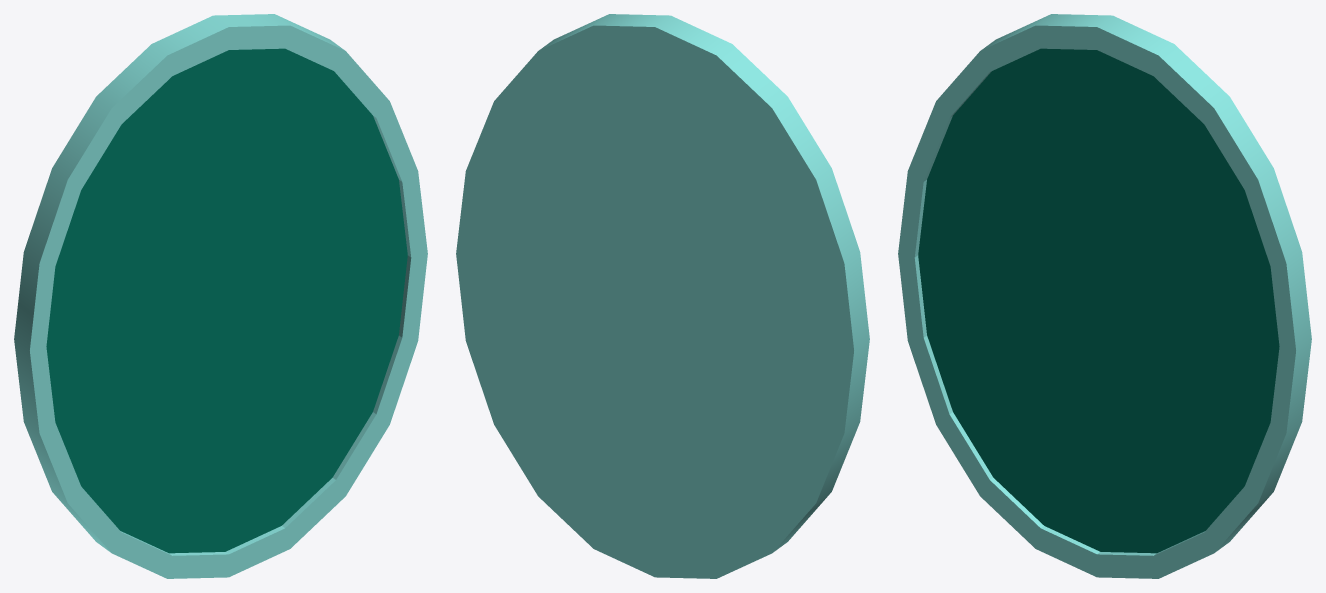
File: SM_Panneau_Neon_Ovale.fbx
The picture shows the model from 3 angles, left to right: view 1: azimuth 30°, elevation 25°; view 2: azimuth 150°, elevation 25°; view 3: azimuth 330°, elevation 25°; orthographic projection.
Visible parts, largest first — view 1: SM_Panneau_Neon_Ovale; view 2: SM_Panneau_Neon_Ovale; view 3: SM_Panneau_Neon_Ovale.
Part boxes in pixels (x1,y1,x2,y2): SM_Panneau_Neon_Ovale: [14, 14, 427, 578]; SM_Panneau_Neon_Ovale: [456, 14, 869, 578]; SM_Panneau_Neon_Ovale: [898, 14, 1311, 578].
Bounding box in the file's own units: 2.41 × 3.19 × 0.1651.
